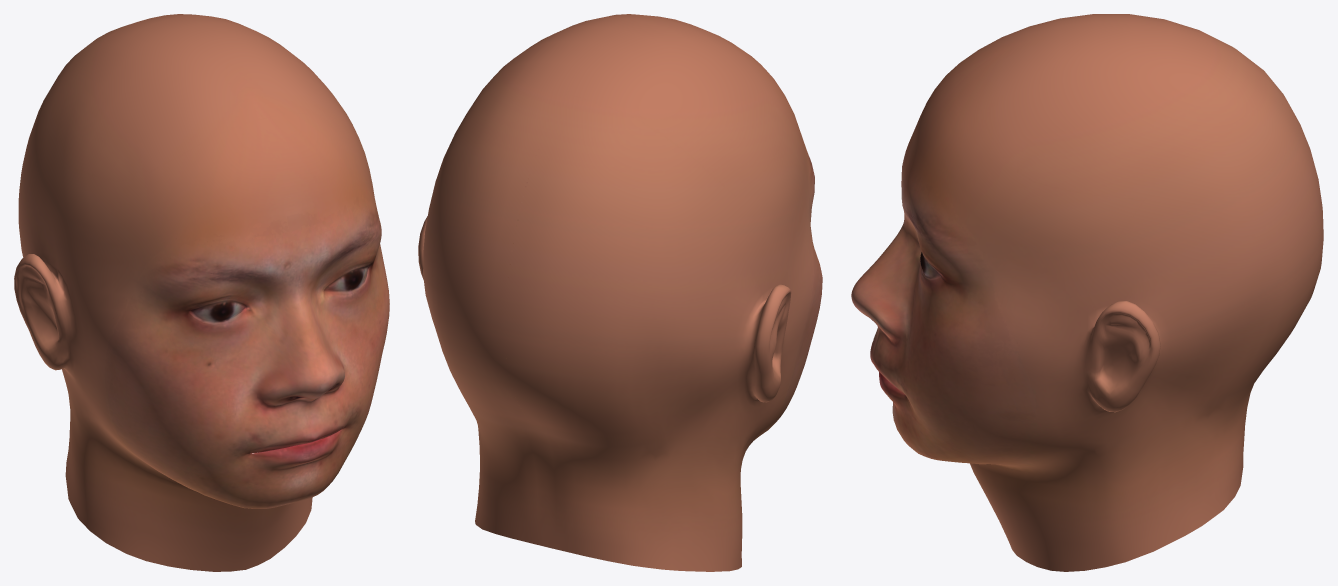
The model's file is avatar.gltf.
3 renders of one model, left to right at view 1: azimuth 30°, elevation 25°; view 2: azimuth 150°, elevation 25°; view 3: azimuth 270°, elevation 25°, orthographic. The views are drawn at different scales.
Visible parts, largest first — view 1: Surf0; view 2: Surf0; view 3: Surf0.
Part boxes in pixels (x1,y1,x2,y2): Surf0: (14,14,389,571); Surf0: (418,14,822,571); Surf0: (851,14,1323,571).
Size of the model in its own units: 0.1934 by 0.2808 by 0.2335.
Materials: 1 (1 with a texture image).
